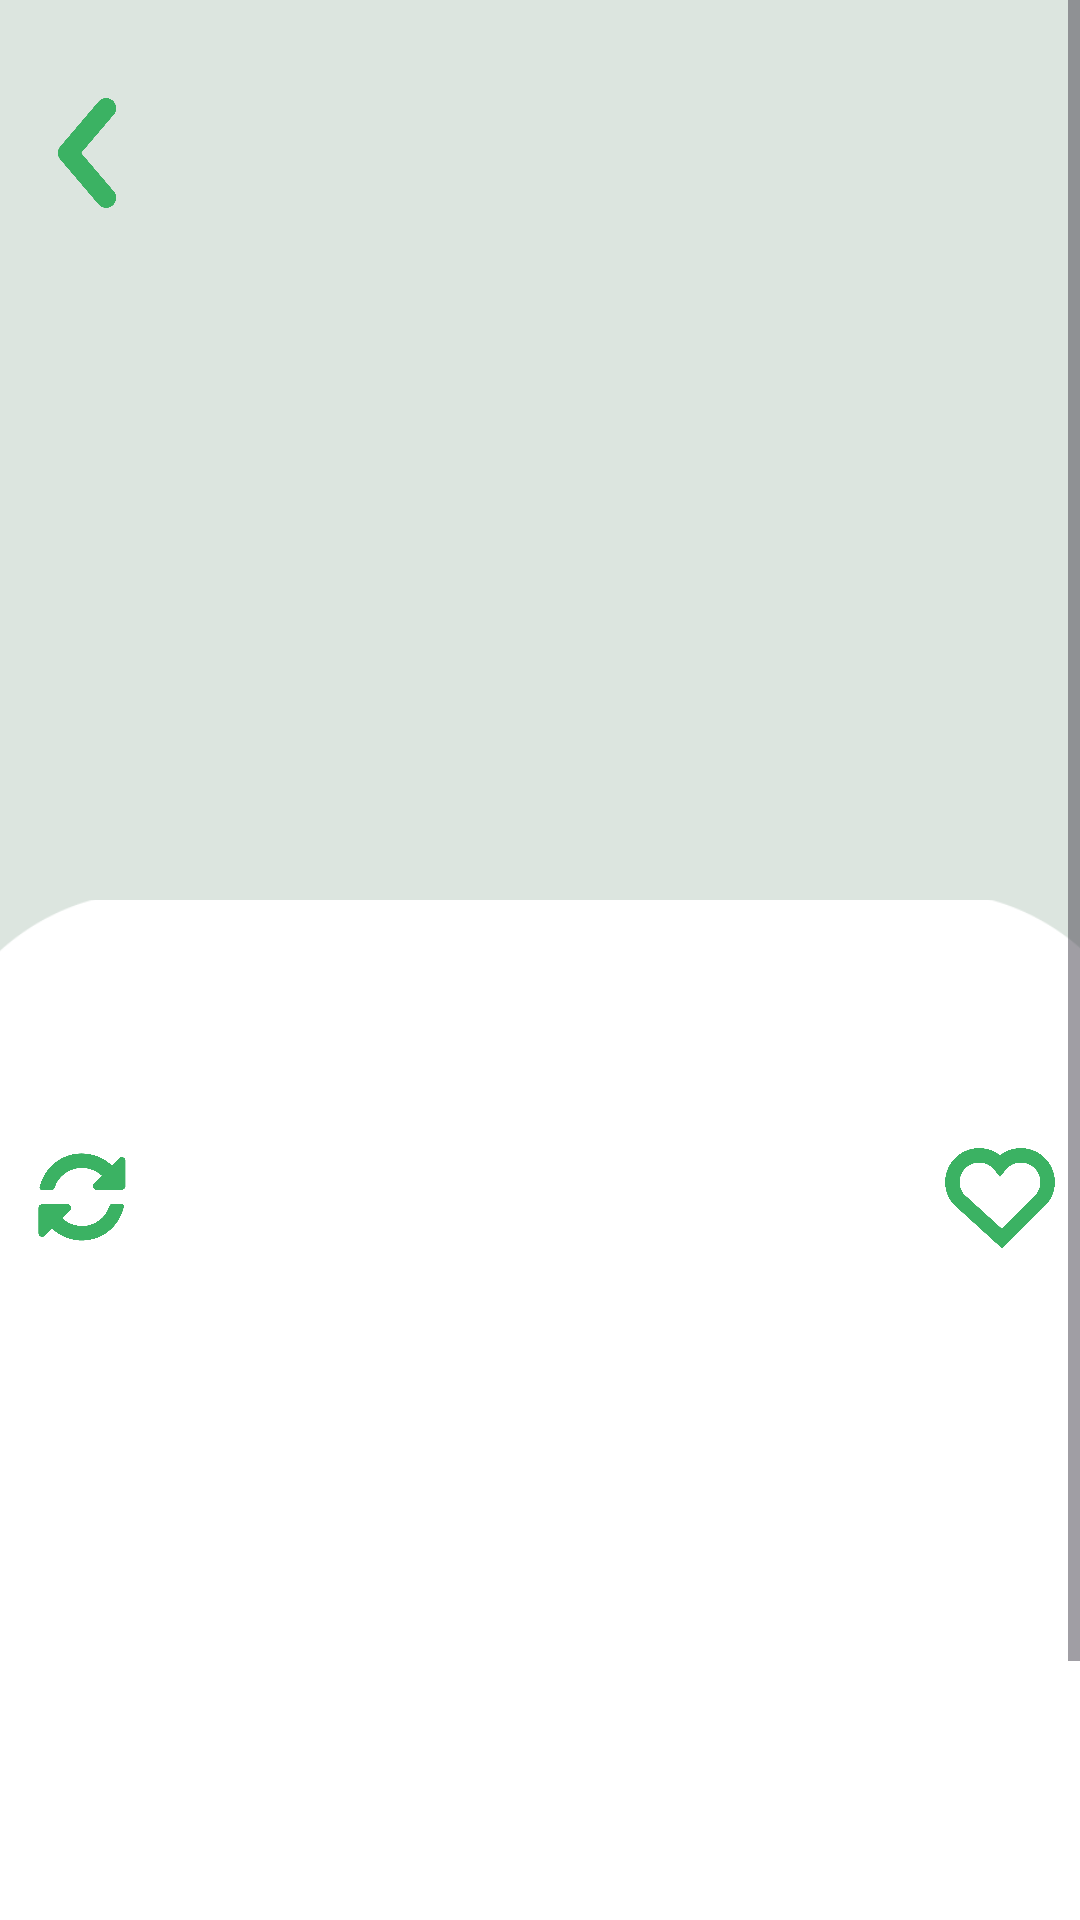

Point at icon controls on the screen. Image size 1080x1920, points as (x=x, y=y).
fav borde: (x=1000, y=1198)
refresh: (x=82, y=1197)
Volver: (x=87, y=153)
